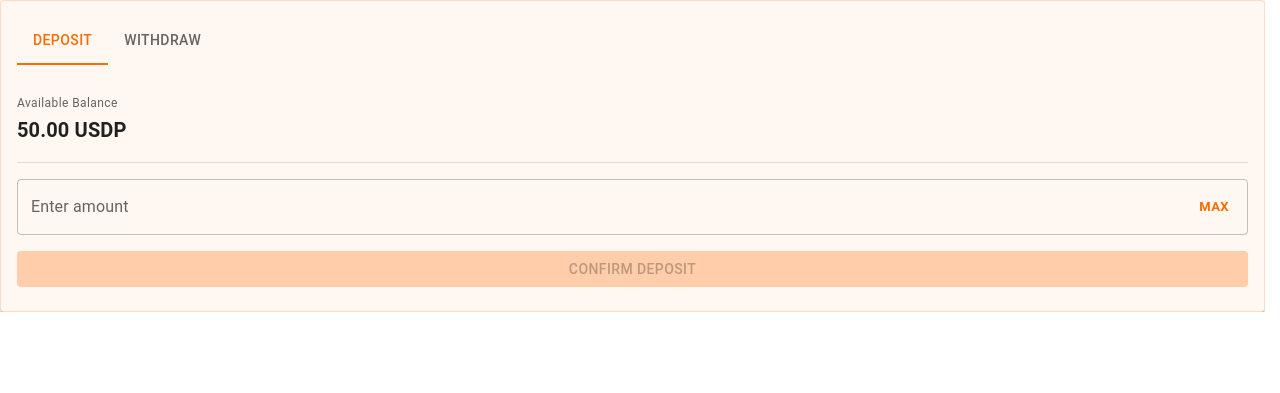
Test case: DepositWithdrawForm - Approval Integration › [TEST 5-7] Boundary Tests › [TEST 6] should handle insufficient balance correctly
expect the tab "Deposit" is shown: met, box [17,17,108,65]
Note: Enter amount greater than balance
Type "100" into the field with placeholder "0.00".
click(606, 207); type("100")  # box [17,179,1194,235]
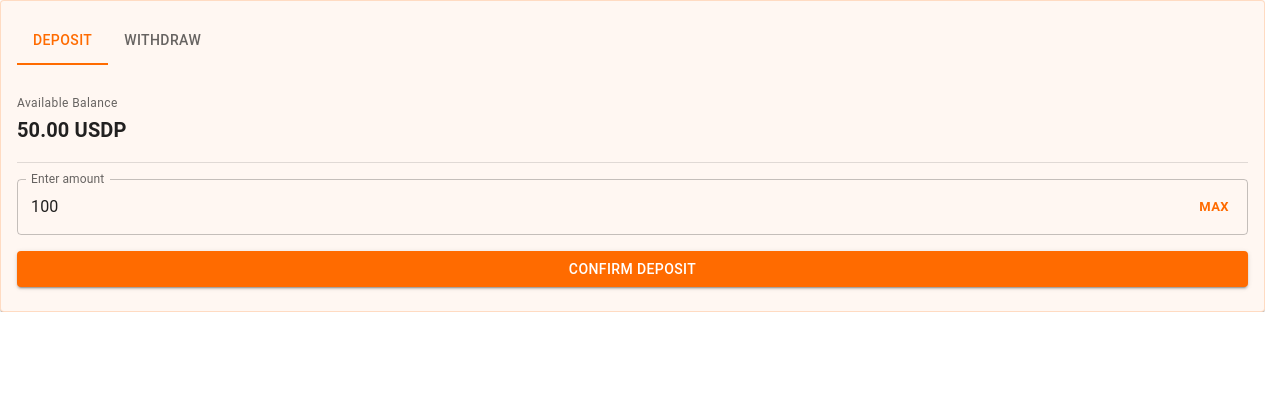
Note: Click deposit
Click the button "Confirm Deposit".
click(632, 269)  # box [17,251,1248,287]
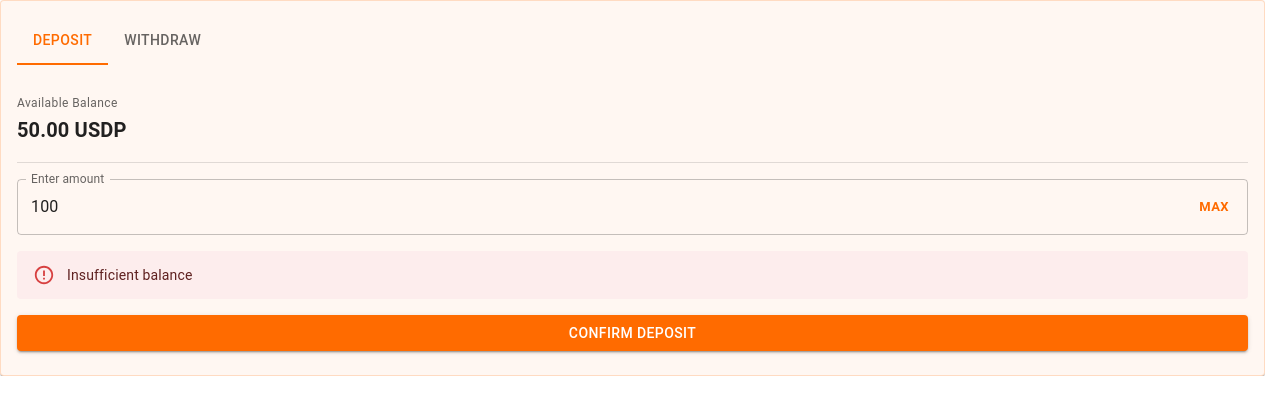
expect the text "Insufficient balance" is shown: met, box [67,267,192,283]
